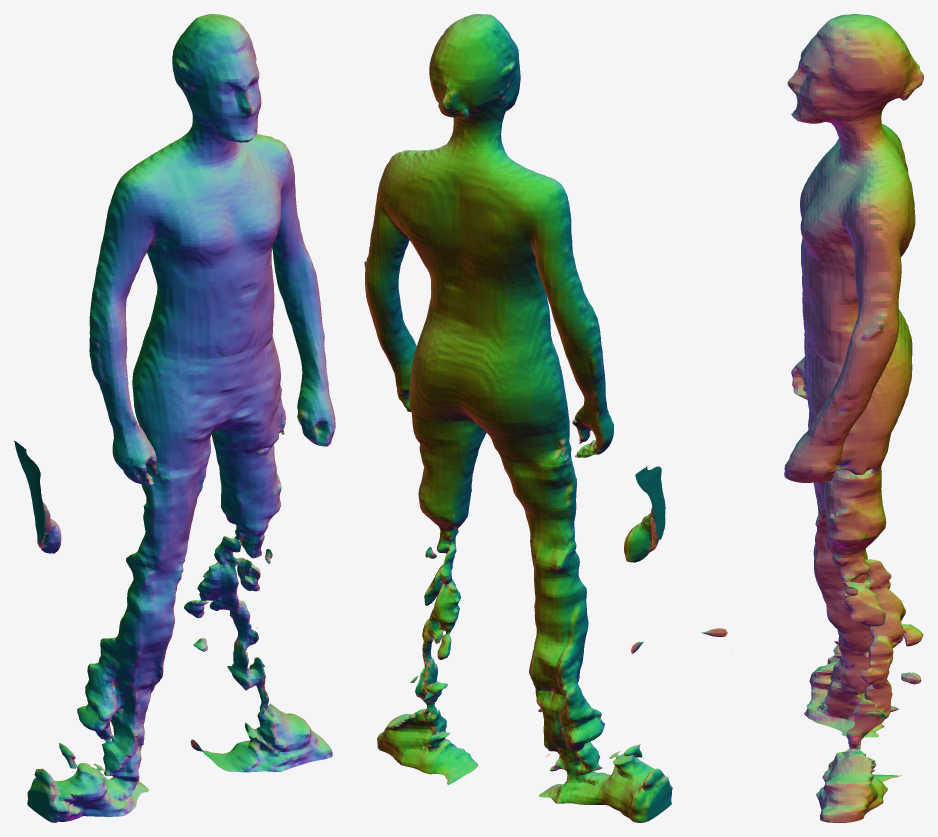
The model's file is result_dhia_256 (2).obj.
The picture shows the model from 3 angles, left to right: view 1: azimuth 30°, elevation 25°; view 2: azimuth 150°, elevation 25°; view 3: azimuth 270°, elevation 25°; orthographic projection.
Size of the model in its own units: 0.709 by 1.8 by 0.4797.
